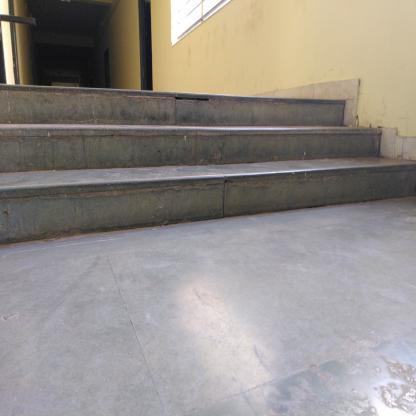stairs: (1, 92, 343, 230)
